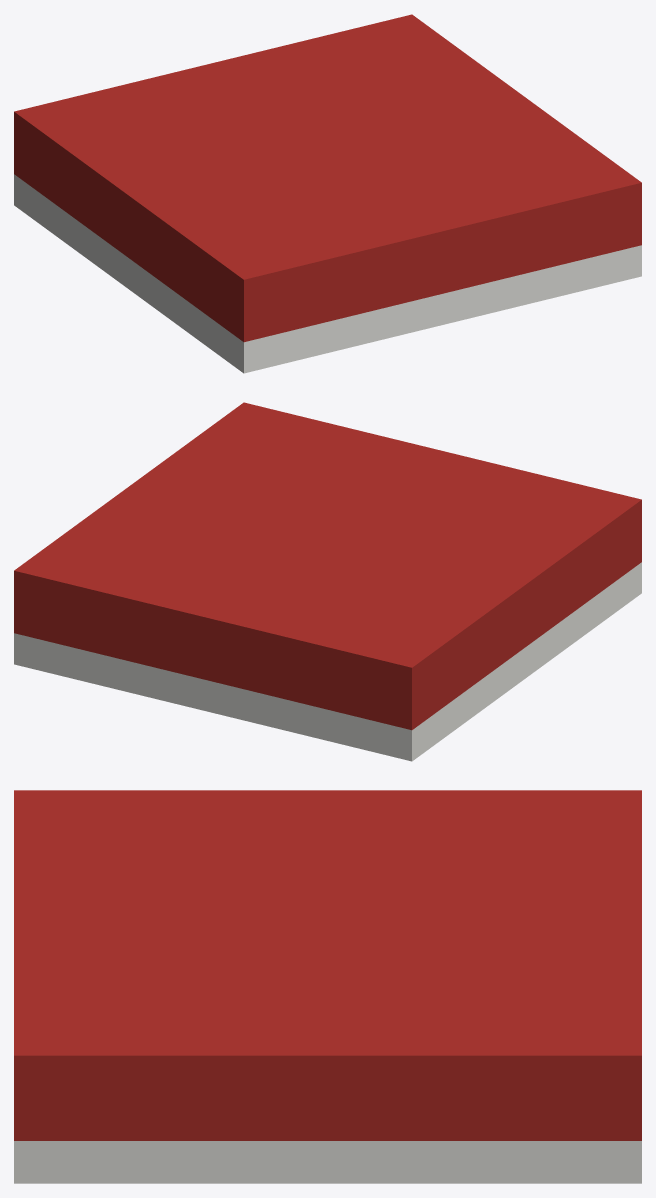
The model's file is canopy.glb.
3 renders of one model, top to bottom at view 1: azimuth 30°, elevation 25°; view 2: azimuth 150°, elevation 25°; view 3: azimuth 270°, elevation 25°, orthographic. The views are drawn at different scales.
Visible parts, largest first — view 1: canopy; view 2: canopy; view 3: canopy.
Boxes of the visible parts, x1,y1,x2,y2 form: canopy: [14, 14, 641, 373]; canopy: [14, 402, 641, 761]; canopy: [14, 790, 641, 1183].
Bounding box in the file's own units: 4 × 0.9 × 4.
